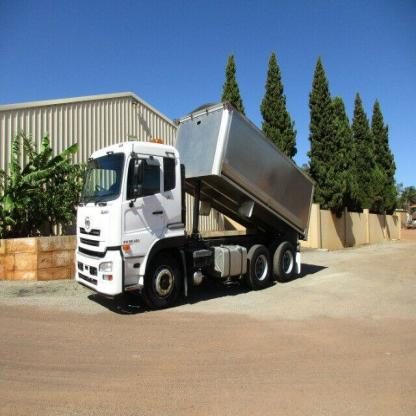dump_truck: (66, 92, 326, 315)
